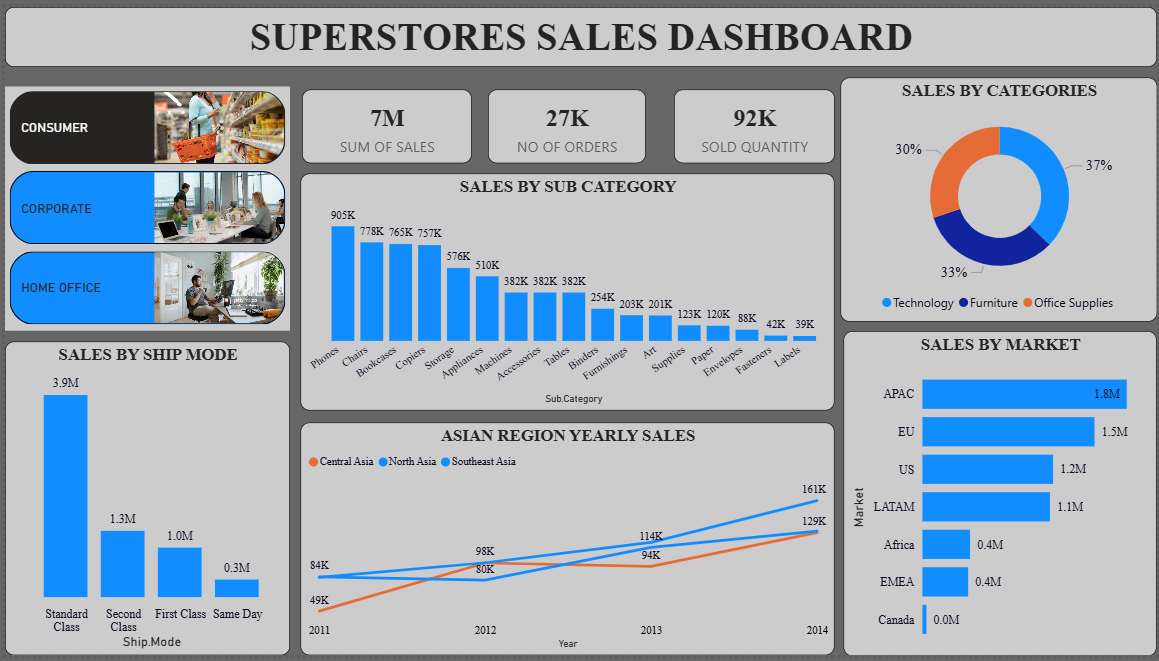

The dashboard page shown, as its layout file describes it:
{"tool":"powerbi","page":{"name":"SALES","canvas":[1280,720],"ordinal":0},"visuals":[{"type":"donutChart","title":"SALES BY CATEGORIES","fields":{"Category":["superstore.Category"],"Y":["Sum(superstore.Sales)"]},"box":[927.8,78.4,352.2,271.2],"z":0},{"type":"clusteredColumnChart","title":"SALES BY SUB CATEGORY","fields":{"Category":["superstore.Sub.Category"],"Y":["Sum(superstore.Sales)"]},"box":[328.3,185,593.3,263.3],"z":1000},{"type":"lineChart","title":"ASIAN REGION YEARLY SALES","fields":{"Category":["superstore.Year"],"Y":["Sum(superstore.Sales)"],"Series":["superstore.Region"]},"box":[328.3,461.7,593.3,258.3],"z":2000},{"type":"clusteredColumnChart","title":"SALES BY SHIP MODE","fields":{"Category":["superstore.Ship.Mode"],"Y":["Sum(superstore.Sales)"]},"box":[0,371.7,316.7,348.3],"z":4000},{"type":"clusteredBarChart","title":"SALES BY MARKET","fields":{"Category":["superstore.Market"],"Y":["Sum(superstore.Sales)"]},"box":[931.8,360.2,348.2,361.5],"z":5000},{"type":"card","fields":{"Values":["CountNonNull(superstore.Order.ID)"]},"box":[536.7,91.7,175,81.7],"z":6000},{"type":"card","fields":{"Values":["Sum(superstore.Quantity)"]},"box":[743.3,91.7,178.3,81.7],"z":7000},{"type":"card","fields":{"Values":["Sum(superstore.Sales)"]},"box":[330,91.7,188.3,81.7],"z":8000},{"type":"textbox","box":[0,0,1279.7,66.7],"z":10000},{"type":"advancedSlicerVisual","fields":{"Values":["URL TABLE.SEGMENT"]},"box":[0,89.1,316.3,271.2],"z":11000}]}

Visuals, with their boxes in screenshot pixels (x1, y1, x2, y2), scaled from the page's 1280x720 canvas onto the 1159x661 screenshot:
"SALES BY CATEGORIES" donutChart: bbox(840, 72, 1158, 321)
"SALES BY SUB CATEGORY" clusteredColumnChart: bbox(297, 170, 834, 412)
"ASIAN REGION YEARLY SALES" lineChart: bbox(297, 424, 834, 660)
"SALES BY SHIP MODE" clusteredColumnChart: bbox(0, 341, 287, 660)
"SALES BY MARKET" clusteredBarChart: bbox(844, 331, 1158, 660)
card - CountNonNull(superstore.Order.ID): bbox(486, 84, 644, 159)
card - Sum(superstore.Quantity): bbox(673, 84, 834, 159)
card - Sum(superstore.Sales): bbox(299, 84, 469, 159)
textbox: bbox(0, 0, 1158, 61)
advancedSlicerVisual - URL TABLE.SEGMENT: bbox(0, 82, 286, 331)
